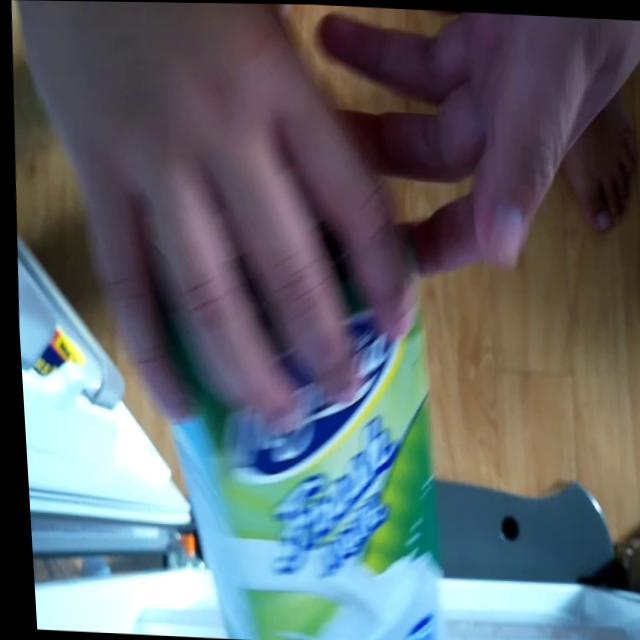milk: (141, 220, 448, 640)
